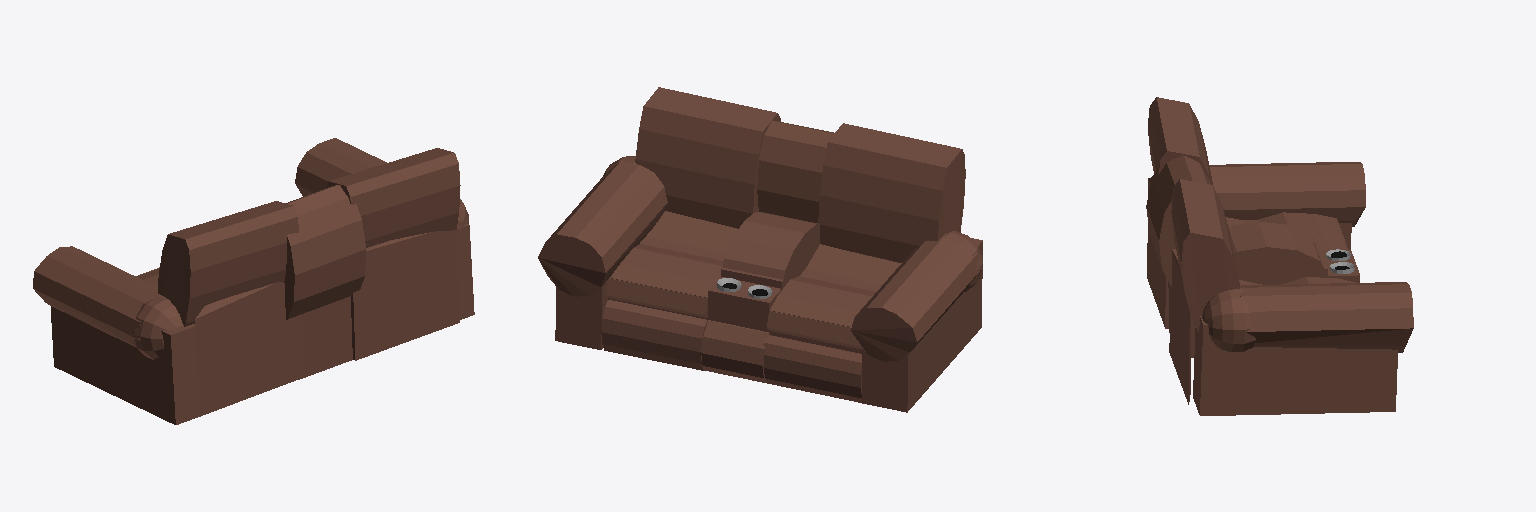
3 views of the same model, side by side, from view 1: azimuth 30°, elevation 25°; view 2: azimuth 150°, elevation 25°; view 3: azimuth 270°, elevation 25° (orthographic).
Parts seen in each view (by area): view 1: group[number redacted]; view 2: group[number redacted]; view 3: group[number redacted].
Boxes of the visible parts, <box> form: group[number redacted]: <box>33,138,474,424</box>; group[number redacted]: <box>538,87,982,412</box>; group[number redacted]: <box>1146,97,1413,415</box>.
Bounding box in the file's own units: 0.5211 × 0.2633 × 0.3241.